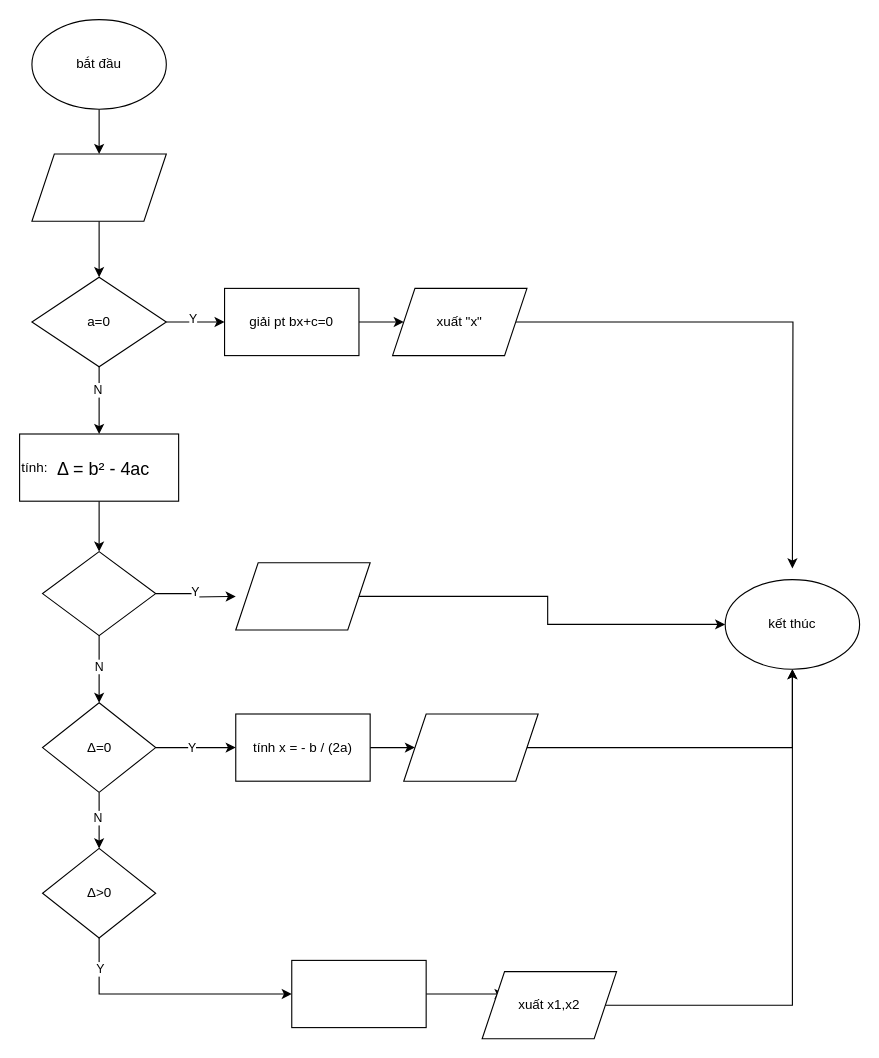
Some shapes in this 879 by 1058 pixel diagram are drawn without their labels. Here are the shapes that lost their labels. From the top down, the box of each, then its label:
(31, 153, 166, 221): nhập a,b,c
(41, 550, 156, 636): Δ<0
(235, 562, 370, 630): xuất "vô nghiệm"
(403, 713, 538, 781): xuất x
(291, 959, 426, 1028): tính 2 nghiệm phân biệt x1,x2
